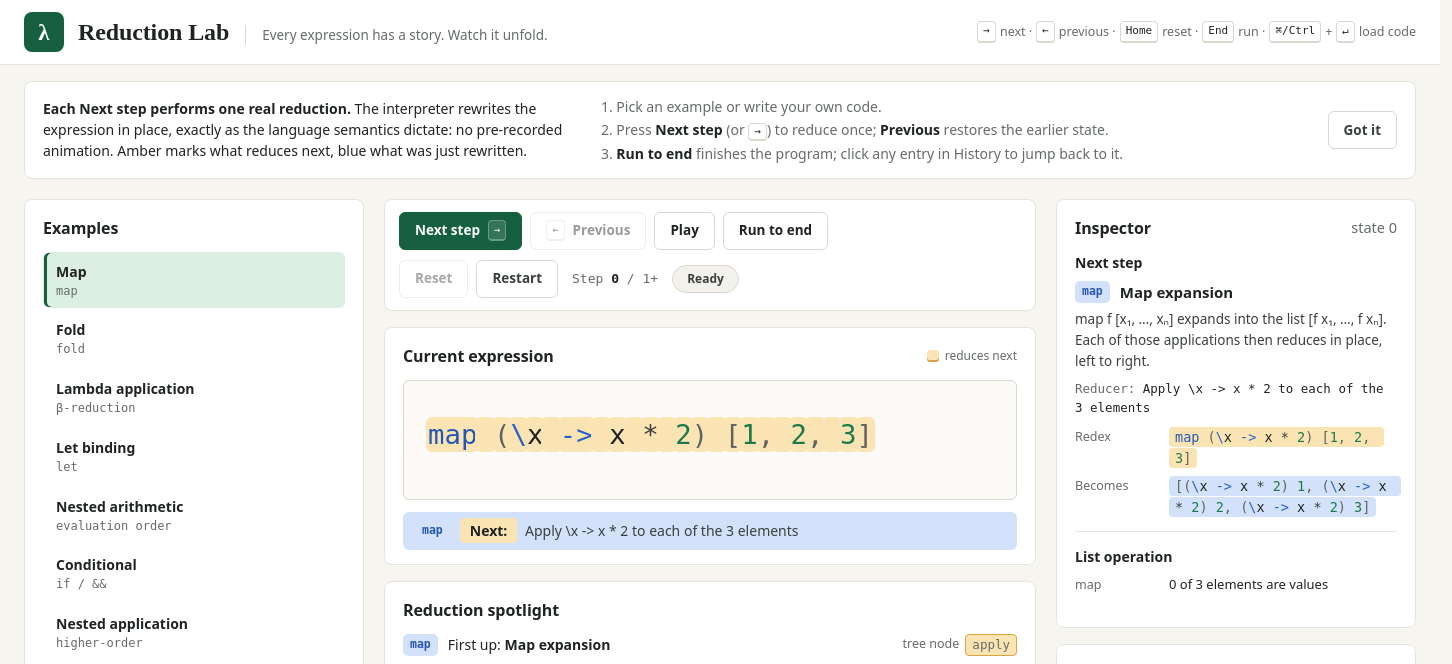
errors and fresh histories › changing examples creates a fresh history
This screenshot has width=1452, height=664.
Click the button "Run to end" at (775, 230), box top-left (723, 212), bottom-right (828, 250)
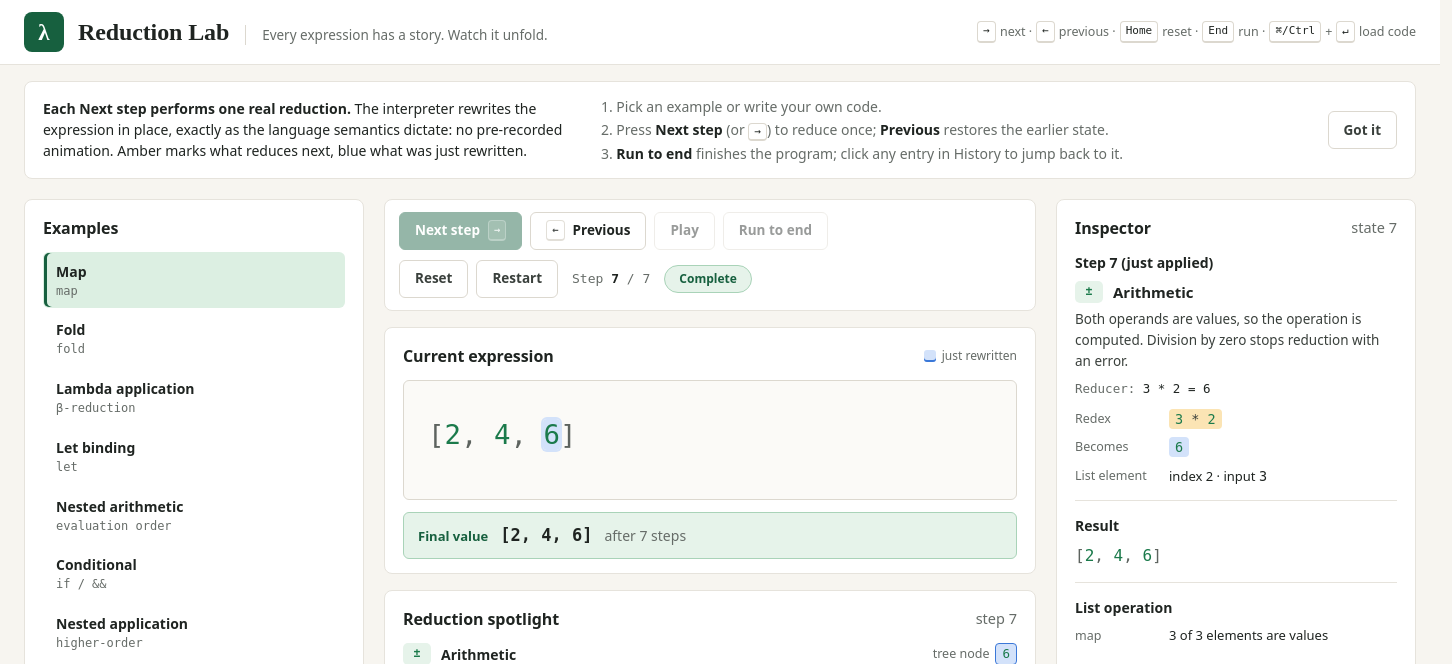
Click the button "Let binding let" at (96, 447), box top-left (43, 428), bottom-right (345, 485)
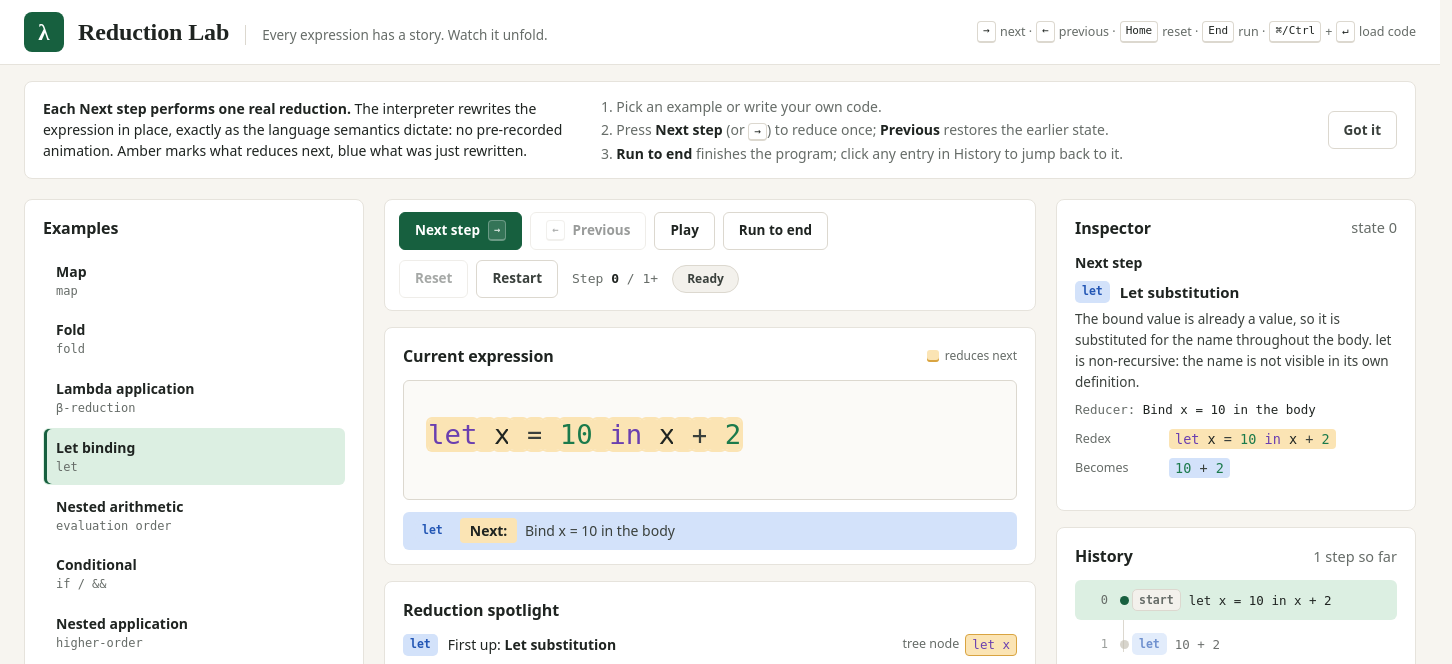
Now the element named "Step counter" shows "Step 0", box top-left (566, 271), bottom-right (664, 286)
Now the button "0 start let x = 10 in x + 2" is shown, box top-left (1075, 580), bottom-right (1397, 620)
